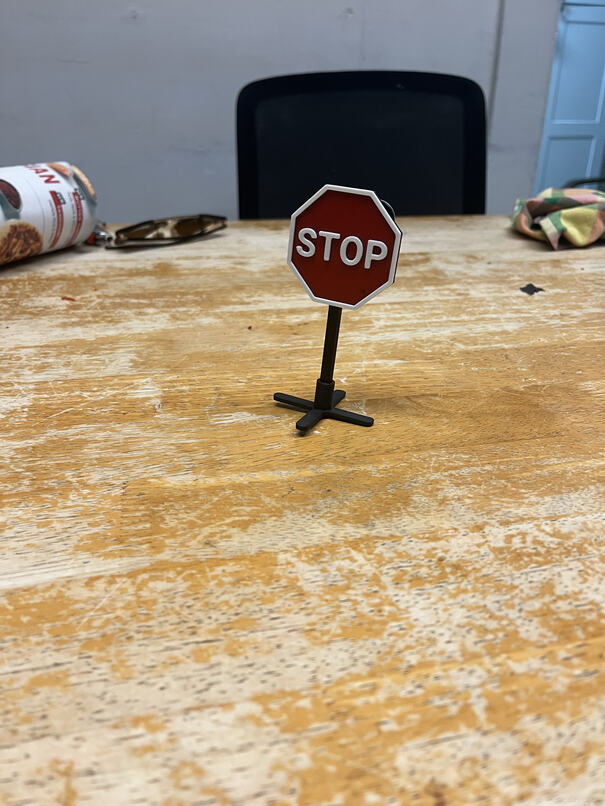sign_stop: (284, 182, 404, 314)
